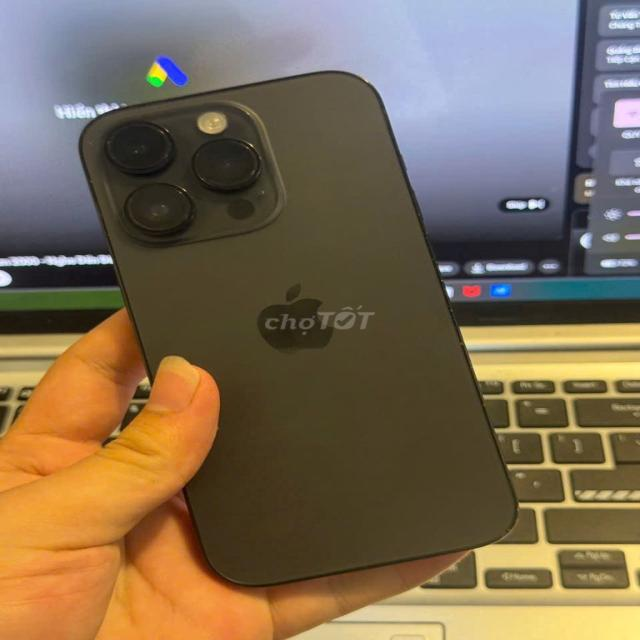gen_14: (81, 59, 527, 580)
